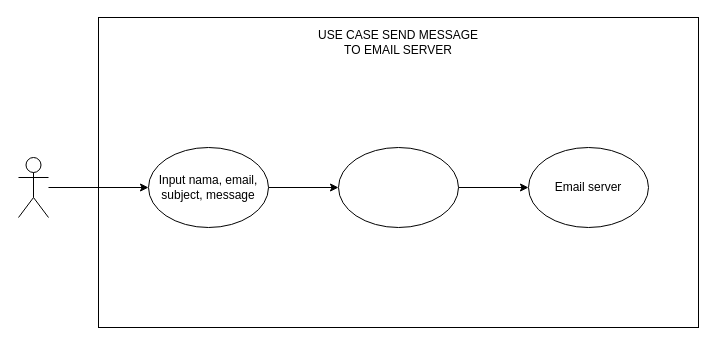
This 716x345 diagram has some shape labels left out. Here are the shapes that lost their labels. From the top down, the box of each, then its label:
(18, 156, 48, 218): USER
(338, 146, 458, 228): Send data ke server
